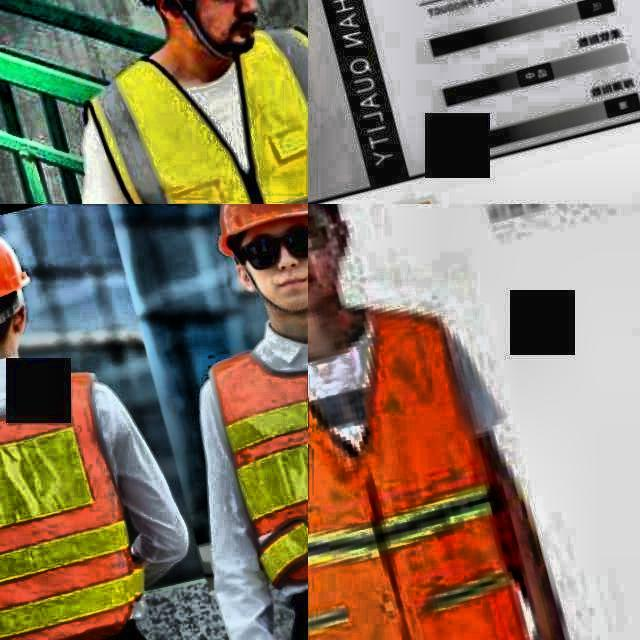safety_jacket: (308, 277, 539, 640), (0, 352, 156, 640), (98, 17, 308, 204), (197, 308, 308, 602)
